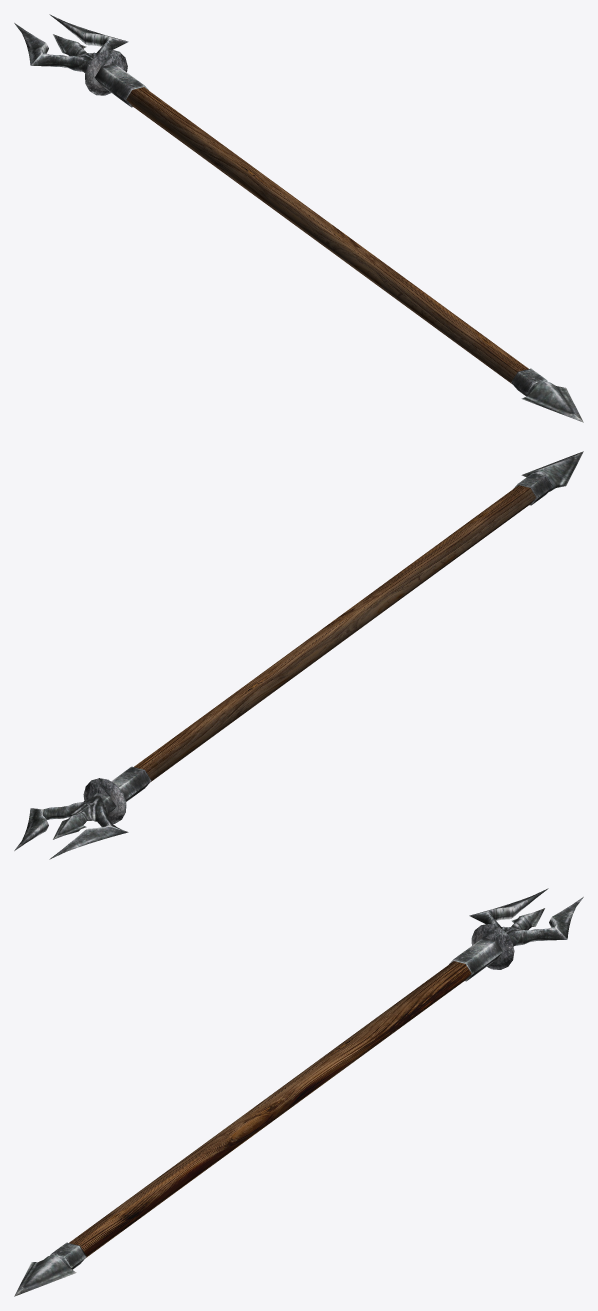
Rendered from whatgeir.glb.
3 renders of one model, top to bottom at view 1: azimuth 30°, elevation 25°; view 2: azimuth 150°, elevation 25°; view 3: azimuth 330°, elevation 25°, orthographic.
Parts seen in each view (by area): view 1: defaultobject; view 2: defaultobject; view 3: defaultobject.
Boxes of the visible parts, x1,y1,x2,y2 form: defaultobject: [14, 14, 583, 422]; defaultobject: [14, 451, 583, 859]; defaultobject: [14, 888, 583, 1296].
Bounding box in the file's own units: 1.01 × 0.4435 × 9.87.
1 material, 1 textured.
